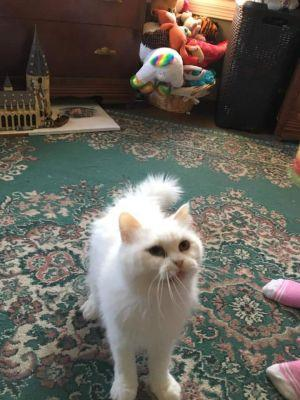persian: (107, 203, 214, 301)
